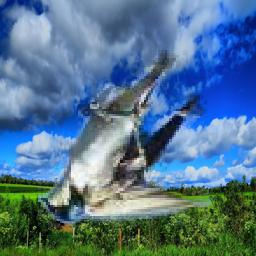Swallow: (39, 51, 214, 228)
